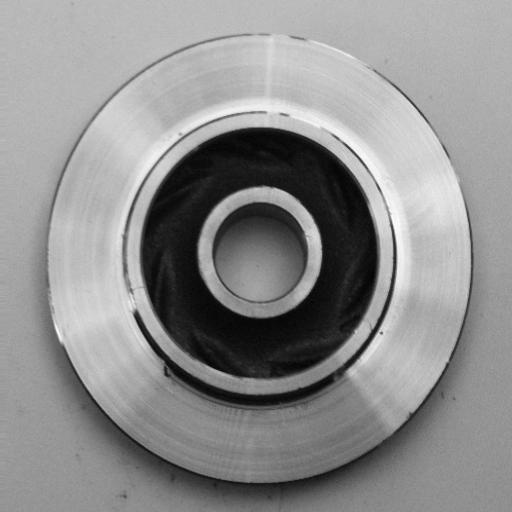crack: (155, 351, 186, 383)
scratch: (280, 19, 381, 78), (110, 235, 149, 325), (262, 103, 346, 139)
unpolished_casting: (44, 32, 475, 488)
